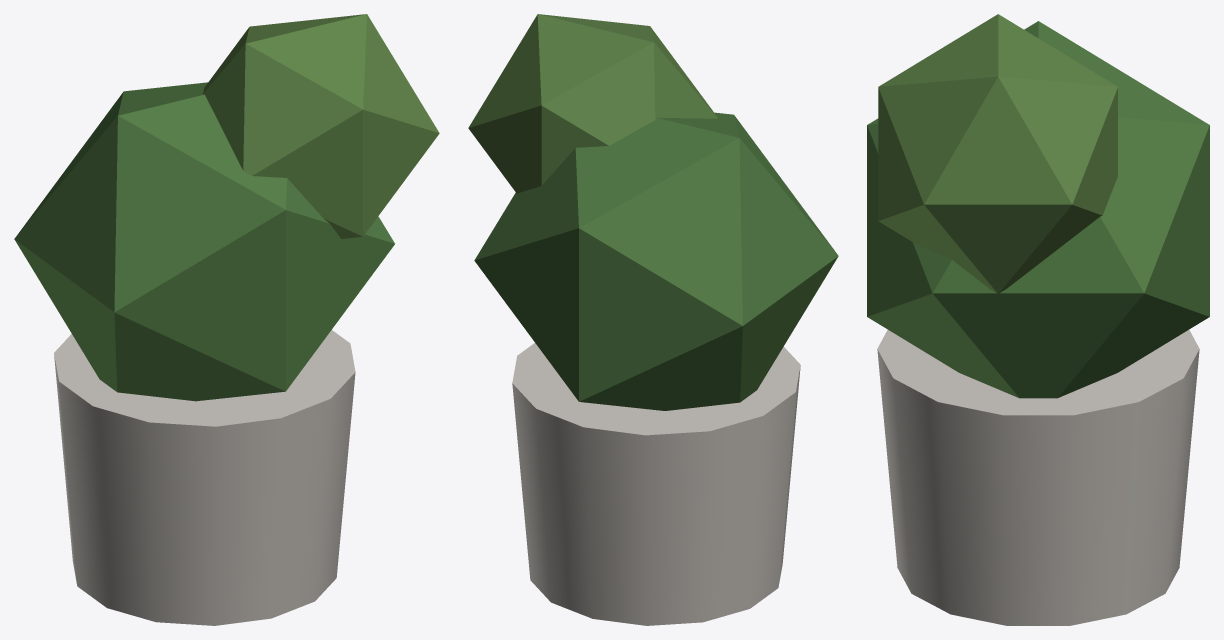
File: planta-mesa.glb
3 views of the same model, side by side, from view 1: azimuth 30°, elevation 25°; view 2: azimuth 150°, elevation 25°; view 3: azimuth 270°, elevation 25° (orthographic). The views are drawn at different scales.
Visible parts, largest first — view 1: planta-mesa_malha; view 2: planta-mesa_malha; view 3: planta-mesa_malha.
Part boxes in pixels (left/top/right/bottom): planta-mesa_malha: left=14, top=14, right=439, bottom=625; planta-mesa_malha: left=468, top=14, right=838, bottom=625; planta-mesa_malha: left=867, top=14, right=1209, bottom=625.
Size of the model in its own units: 0.1946 by 0.3095 by 0.1701.
